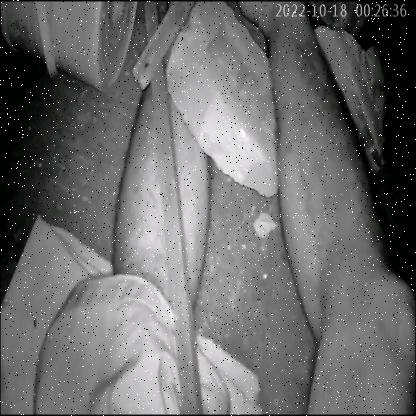leg: (235, 0, 416, 416)
